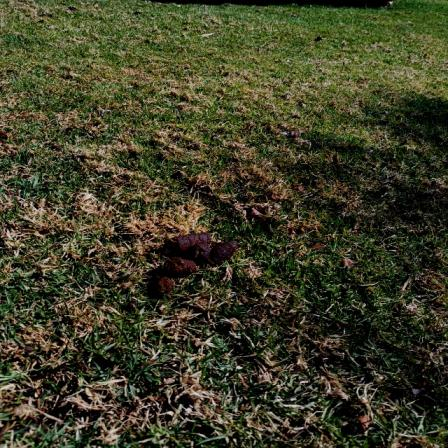dog-poop: (151, 227, 239, 304)
